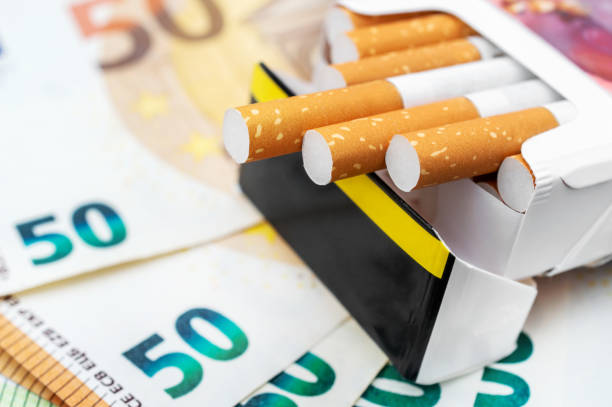cigarette: (235, 0, 612, 388), (223, 54, 535, 165), (302, 78, 559, 185), (386, 97, 576, 193), (318, 34, 504, 91), (330, 13, 479, 65), (324, 6, 437, 44), (497, 152, 537, 214)
